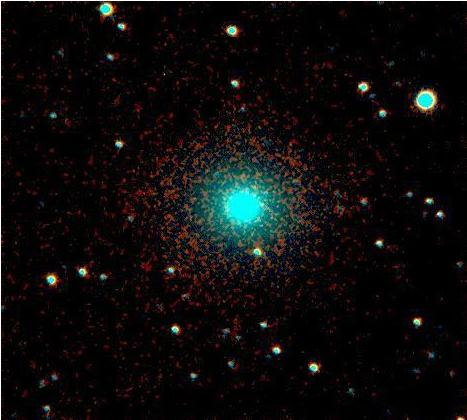star: (249, 187, 279, 217)
